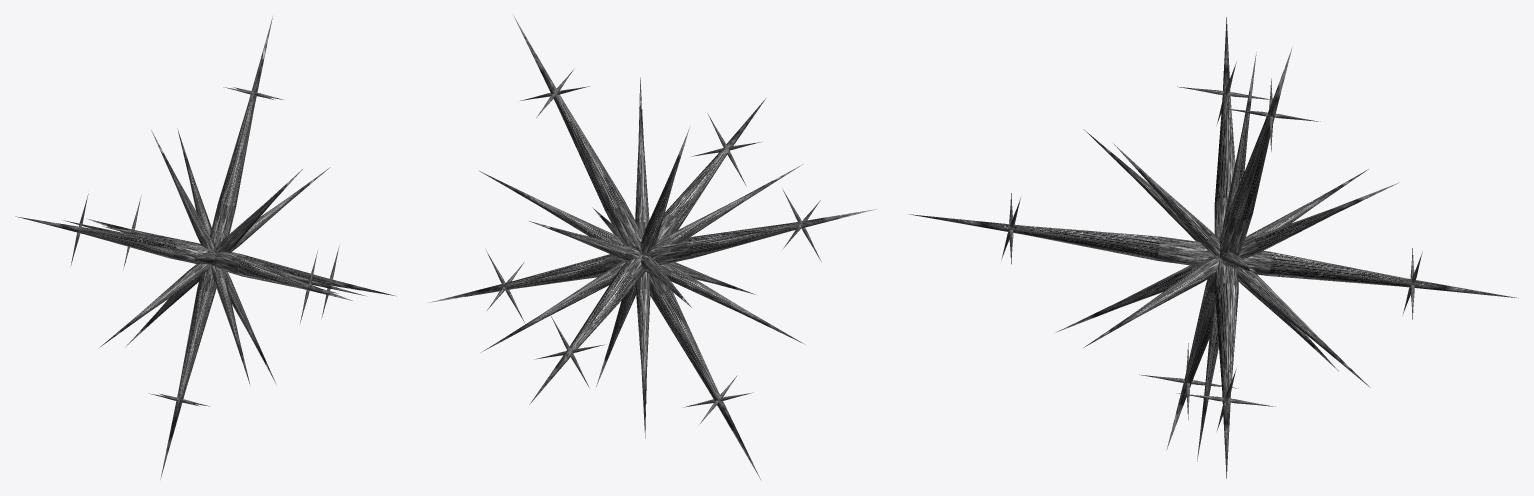
File: ppArmillarySphereCore.fbx
The picture shows the model from 3 angles, left to right: view 1: azimuth 30°, elevation 25°; view 2: azimuth 150°, elevation 25°; view 3: azimuth 270°, elevation 25°; orthographic projection. The views are drawn at different scales.
Parts seen in each view (by area): view 1: shaftBall (×8); view 2: shaftBall (×9); view 3: shaftBall (×8).
Part boxes in pixels (x1=…): shaftBall (×8): x1=15, y1=16, x2=396, y2=479; shaftBall (×9): x1=428, y1=16, x2=876, y2=480; shaftBall (×8): x1=909, y1=17, x2=1518, y2=478.
Bounding box in the file's own units: 0.1619 × 0.1585 × 0.1727.
Materials: 1 (1 with a texture image).
